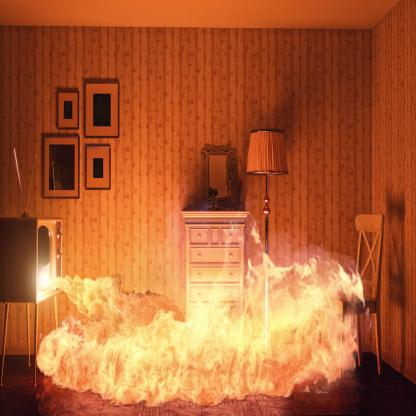fire: (32, 238, 366, 405)
